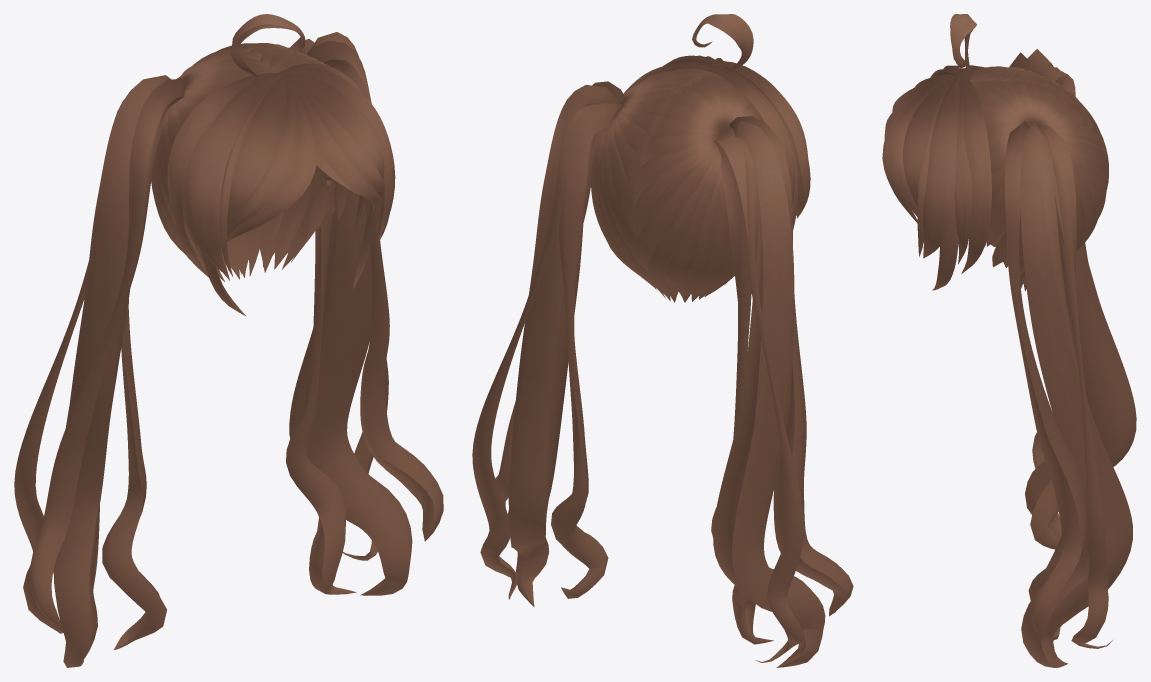
The picture shows the model from 3 angles, left to right: view 1: azimuth 30°, elevation 25°; view 2: azimuth 150°, elevation 25°; view 3: azimuth 270°, elevation 25°; orthographic projection. The views are drawn at different scales.
Visible parts, largest first — view 1: Hair001; view 2: Hair001; view 3: Hair001.
Boxes of the visible parts, x1,y1,x2,y2 form: Hair001: [14, 14, 443, 667]; Hair001: [472, 14, 853, 667]; Hair001: [882, 14, 1136, 667].
Bounding box in the file's own units: 0.4243 × 0.6606 × 0.262.
1 material, 1 textured.
